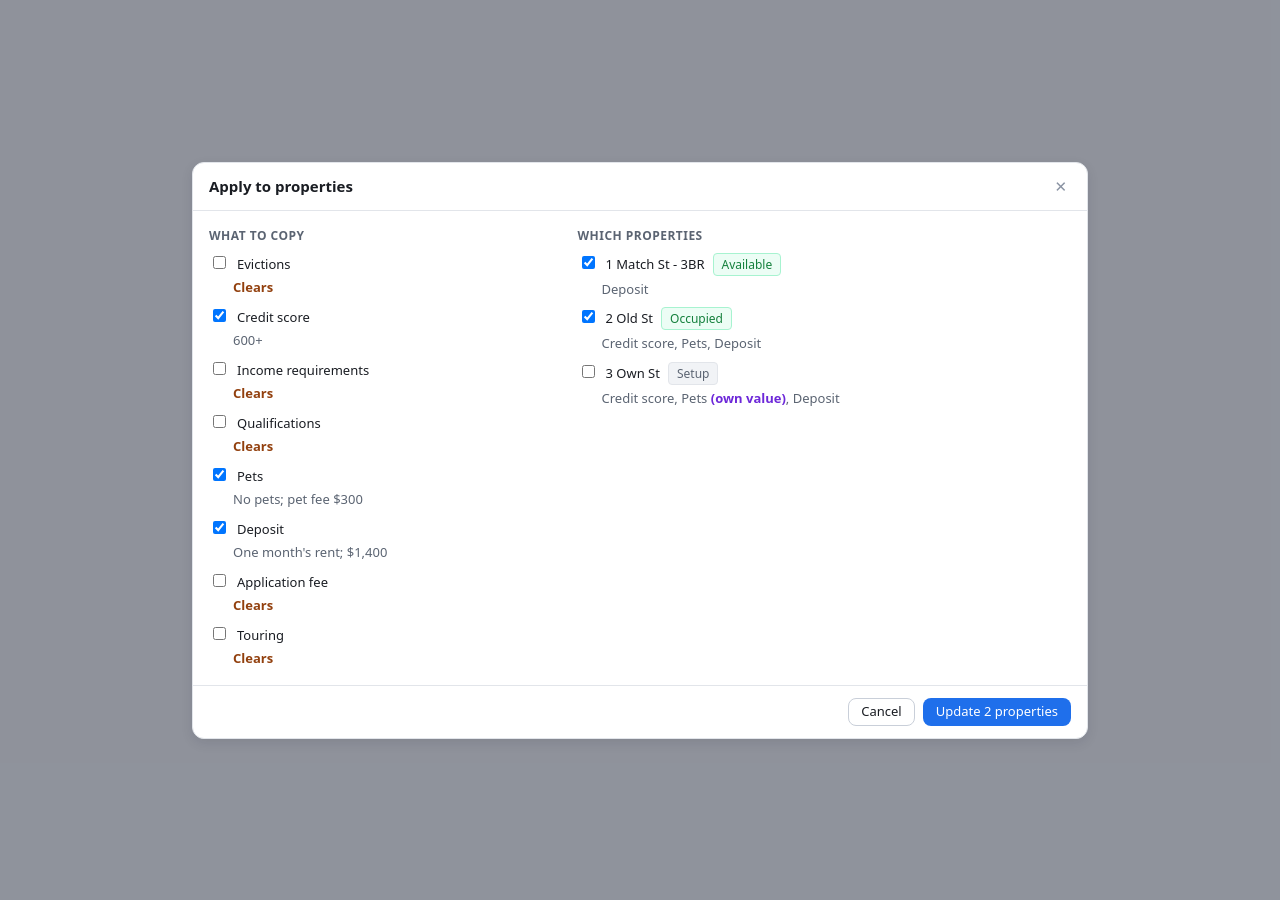
it: ApplyRequirementsDialog - a landlord deposit holding both forms (code review RD-1, worklist OR-31) › the re-read after a deposit_conflict keeps what staff left out (the OR-17 carry)
Click the checkbox labelled "Credit score" at x=220, y=315, box [213, 308, 226, 322]
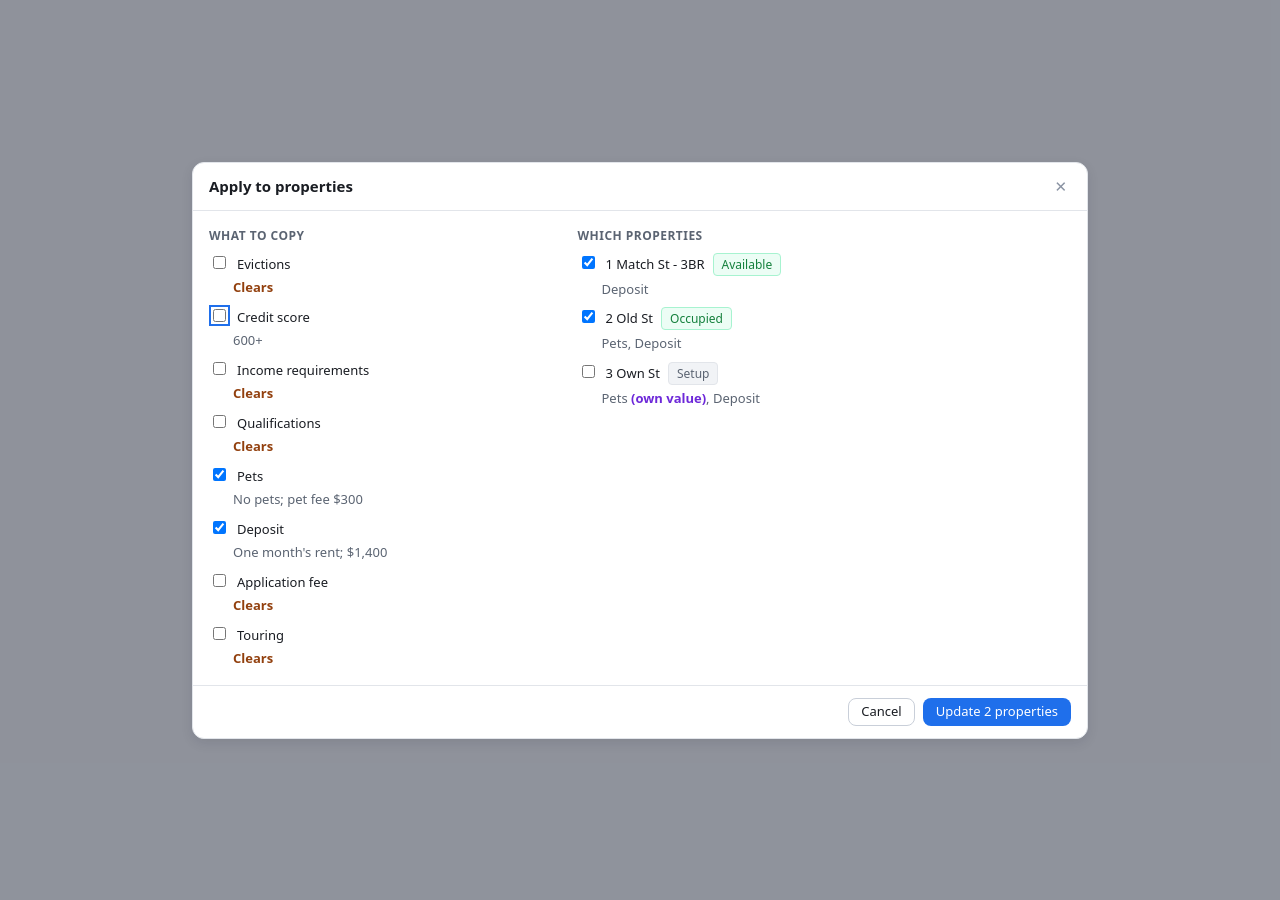
Click the button "Update 2 properties" at x=997, y=712, box [923, 698, 1071, 726]
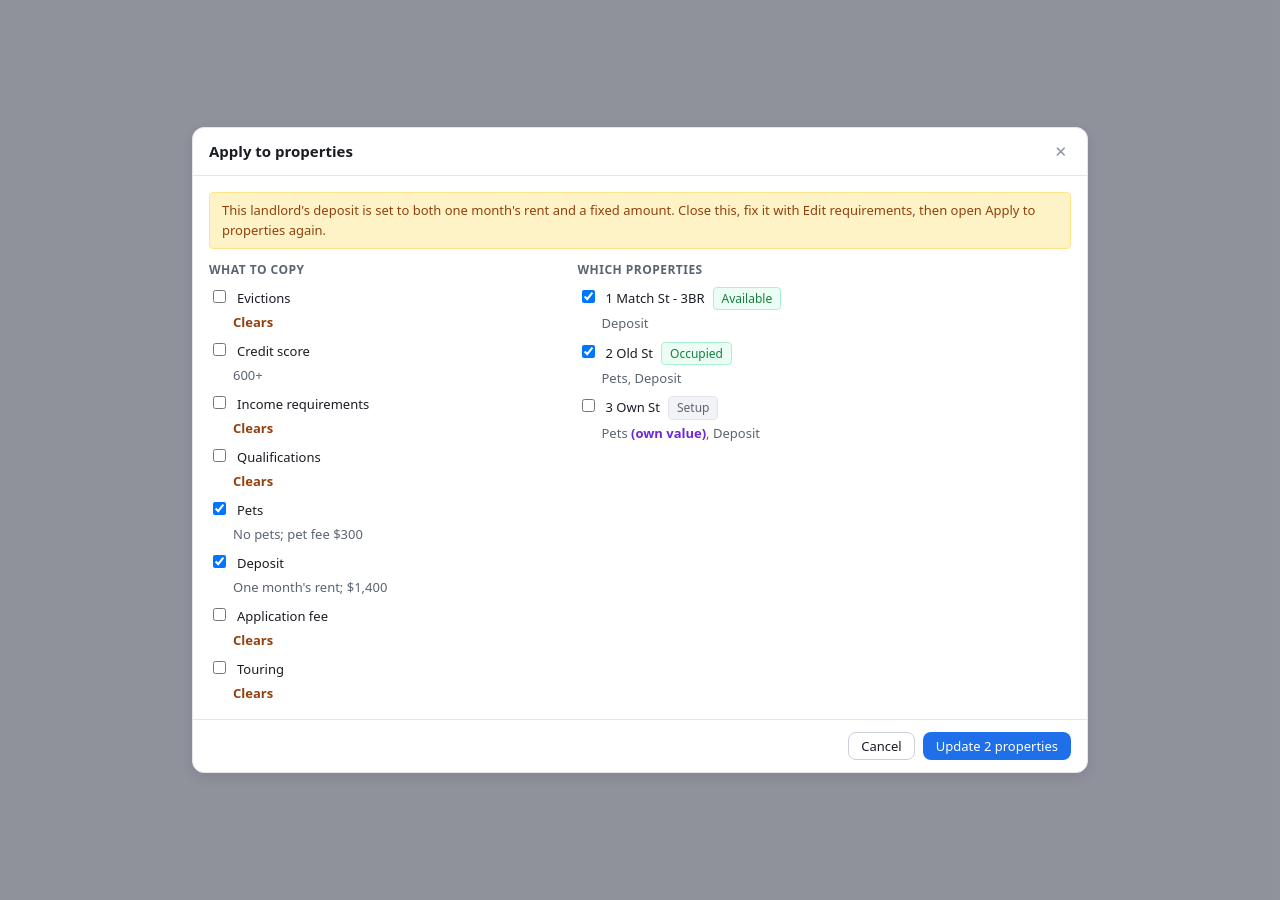
Check: the checkbox labelled "Pets" is checked, box [213, 502, 226, 515]
Check: the checkbox labelled "Credit score" is not checked, box [213, 343, 226, 356]
Check: the text "This landlord's deposit is set to both one month's rent and a fixed amount. Close this, fix it with Edit requirements, t" is shown, box [222, 201, 1035, 238]
